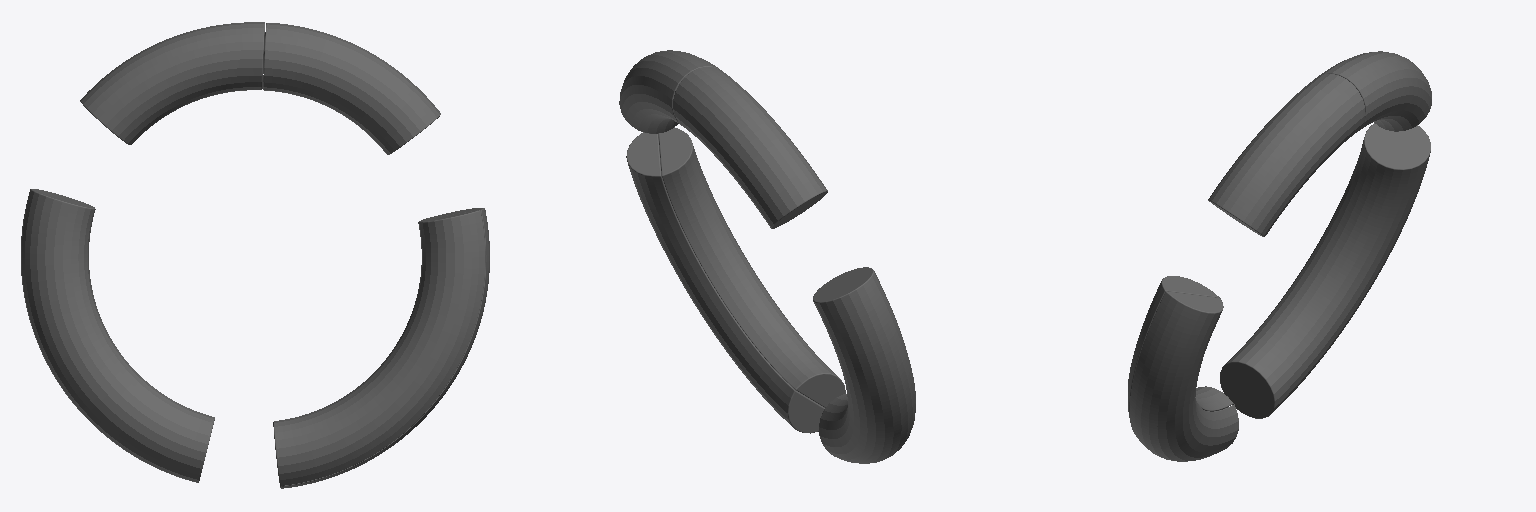
Rendered from Ring_Social.obj.
3 views of the same model, side by side, from view 1: azimuth 30°, elevation 25°; view 2: azimuth 150°, elevation 25°; view 3: azimuth 270°, elevation 25° (orthographic).
Parts seen in each view (by area): view 1: Circle001; view 2: Circle001; view 3: Circle001.
Boxes of the visible parts, box(x1,y1,x2,y2) form: Circle001: box(21, 22, 489, 488); Circle001: box(619, 50, 915, 463); Circle001: box(1128, 51, 1431, 461).
Bounding box in the file's own units: 153 × 161 × 111.